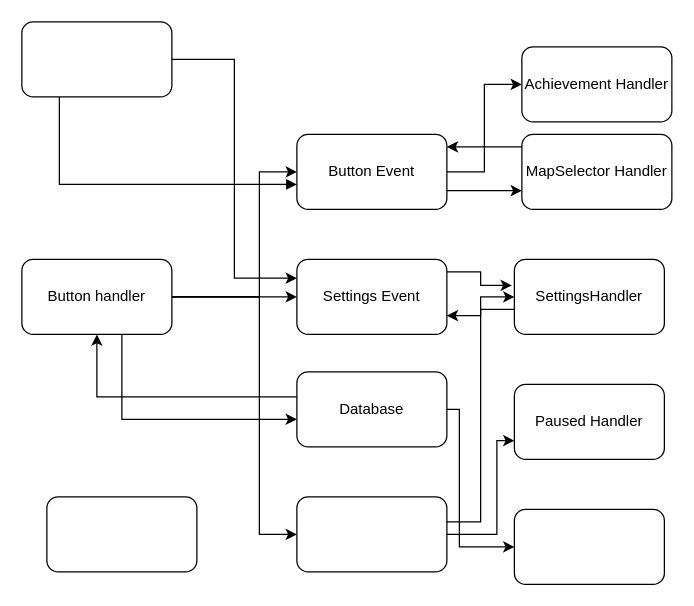
Some shapes in this 694 by 606 pixel diagram are drawn without their labels. Here are the shapes that lost their labels. From the top down, the centre of each, then its label:
the point at 96,59: Tutorial Handler
the point at 121,534: Player Controller
the point at 371,534: Paused Event
the point at 588,546: Background Handler
